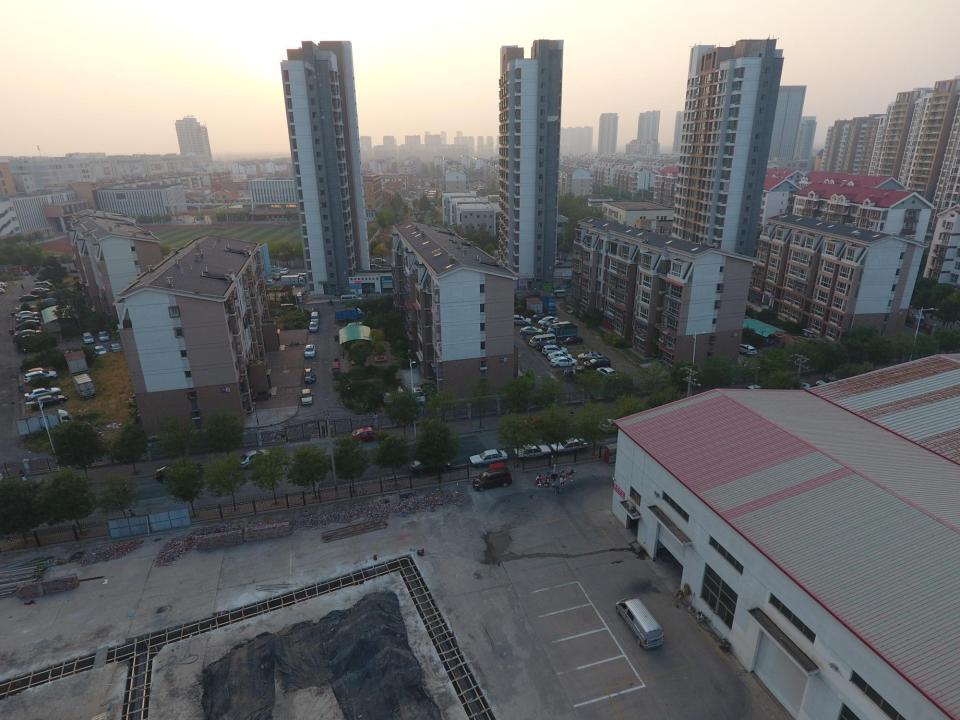car: (156, 463, 203, 483), (472, 469, 512, 491), (410, 456, 450, 475), (470, 449, 508, 467), (17, 336, 58, 352), (514, 443, 550, 461), (238, 448, 270, 468), (352, 426, 388, 443), (551, 438, 587, 455), (598, 418, 634, 434), (23, 389, 61, 402), (30, 396, 68, 408), (563, 369, 592, 384), (24, 371, 59, 383), (524, 415, 556, 428), (816, 376, 845, 388), (28, 367, 56, 379), (596, 367, 619, 381), (13, 330, 44, 340), (735, 344, 757, 358), (411, 386, 426, 406), (584, 358, 610, 369), (506, 315, 532, 326), (550, 357, 578, 367), (15, 320, 42, 330), (578, 352, 603, 362), (542, 345, 567, 355), (547, 351, 571, 361), (786, 382, 811, 391), (558, 337, 582, 346), (394, 387, 408, 402), (521, 326, 542, 336), (542, 321, 563, 331), (531, 312, 552, 322), (14, 311, 39, 319), (300, 389, 312, 405), (16, 316, 40, 324), (537, 317, 558, 326), (303, 369, 315, 384), (304, 344, 316, 358), (19, 294, 41, 301), (93, 345, 108, 355), (108, 344, 123, 354), (82, 332, 94, 344), (98, 331, 110, 342), (308, 321, 318, 333), (30, 288, 50, 294), (266, 278, 276, 286), (280, 267, 289, 275), (273, 273, 282, 281)
truck: (14, 410, 76, 437), (71, 373, 96, 399), (547, 322, 578, 338), (907, 305, 925, 328), (335, 308, 366, 321), (540, 297, 557, 315), (281, 275, 306, 287)
van: (615, 598, 663, 648), (529, 333, 556, 346), (340, 296, 361, 304), (550, 290, 566, 298), (382, 393, 392, 404), (34, 282, 52, 288), (298, 273, 312, 280), (265, 265, 276, 271)
